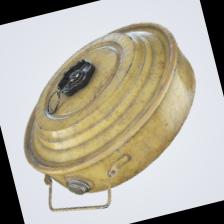TM-46: (7, 17, 216, 214)
